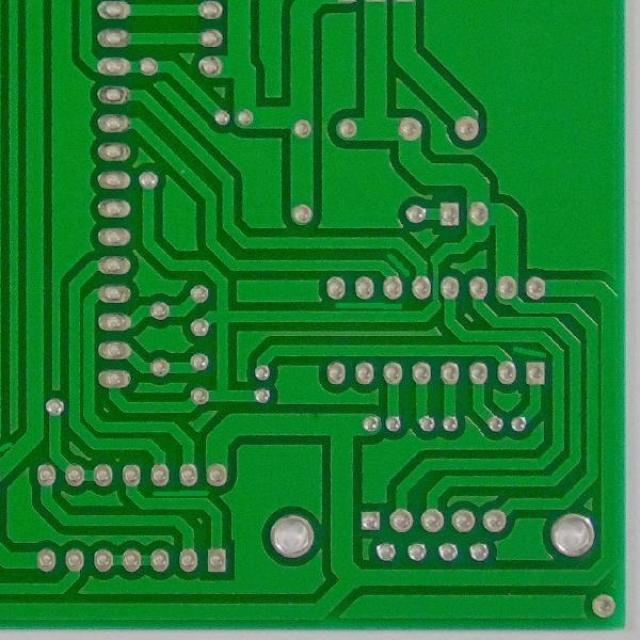Spurious_Cooper: (379, 246, 416, 281), (330, 298, 406, 314), (148, 486, 212, 501), (509, 342, 550, 360)
